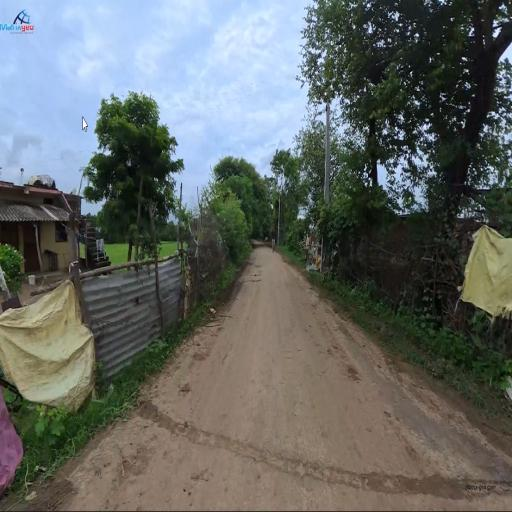longitudinal_crack: (161, 395, 469, 506)
